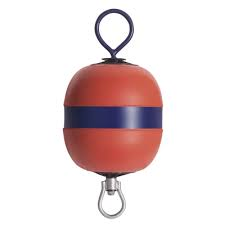buoy: (63, 63, 163, 175)
